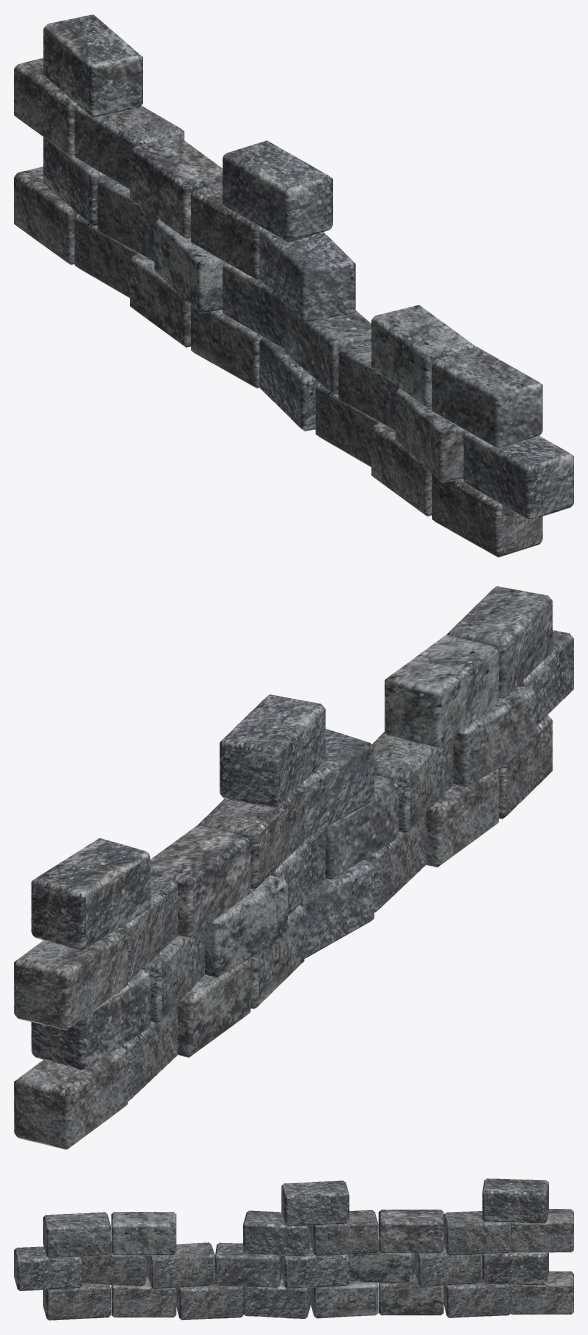
The model's file is StoneWallA_C.fbx.
3 views of the same model, one above another, from view 1: azimuth 30°, elevation 25°; view 2: azimuth 150°, elevation 25°; view 3: azimuth 270°, elevation 25° (orthographic). The views are drawn at different scales.
Visible parts, largest first — view 1: StoneWallA_C; view 2: StoneWallA_C; view 3: StoneWallA_C.
Boxes of the visible parts, x1,y1,x2,y2 form: StoneWallA_C: (14,14,573,557); StoneWallA_C: (14,586,573,1149); StoneWallA_C: (14,1178,573,1320).
Size of the model in its own units: 63.04 by 152 by 621.
